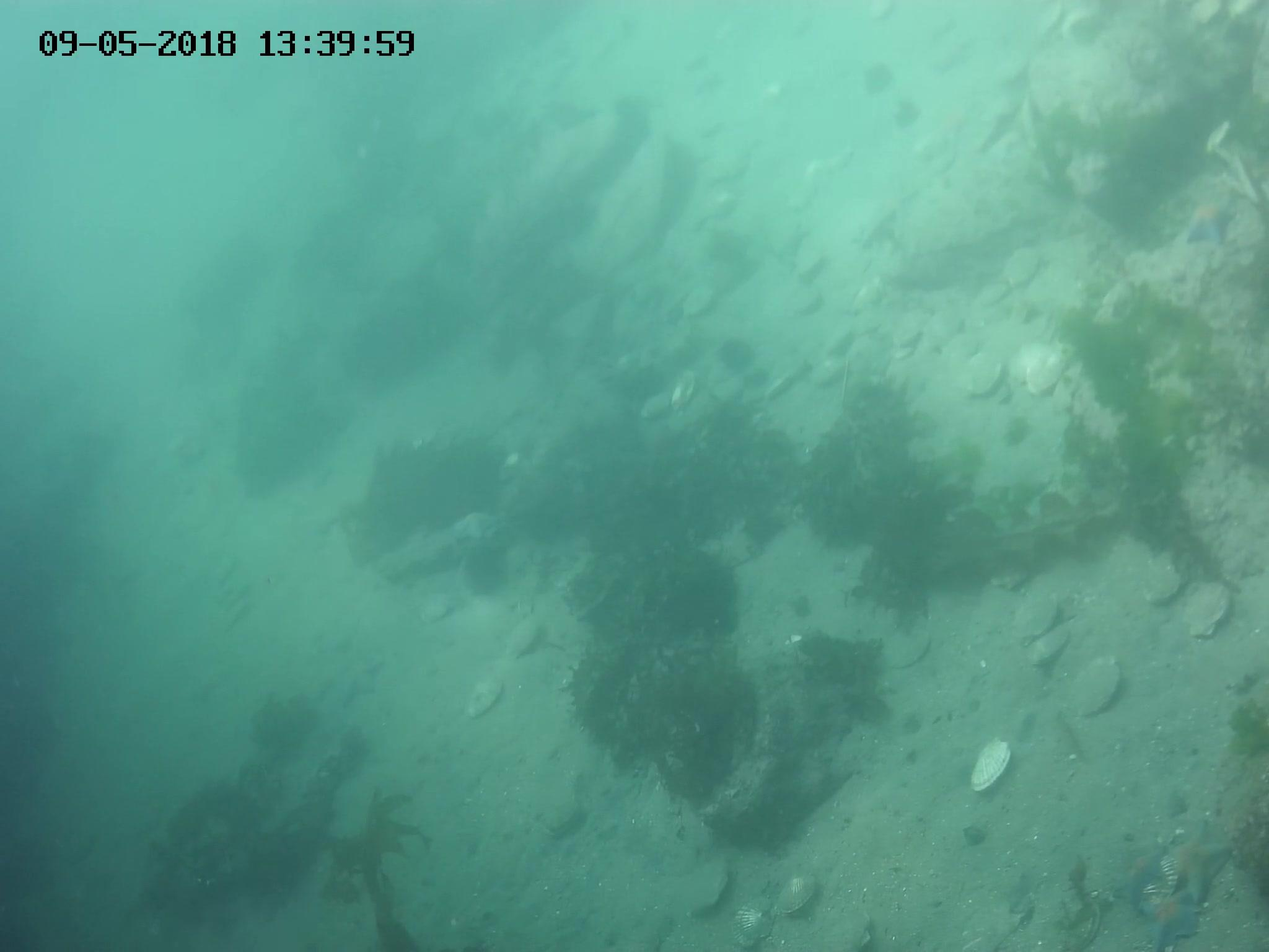holothurian: (1170, 811, 1234, 904), (1139, 888, 1207, 952), (1182, 198, 1237, 252), (334, 655, 389, 708)
scallop: (680, 855, 734, 919), (1071, 658, 1123, 721), (966, 735, 1016, 800), (728, 896, 781, 952), (1187, 581, 1231, 640), (1012, 595, 1065, 643), (880, 629, 936, 672), (1025, 625, 1073, 669), (828, 912, 880, 952), (965, 351, 1007, 400), (1142, 568, 1192, 609), (849, 334, 894, 379), (463, 671, 504, 720), (1022, 355, 1065, 397), (781, 868, 816, 919), (1003, 248, 1043, 289), (501, 620, 540, 659), (926, 312, 964, 352), (892, 311, 930, 346), (639, 389, 680, 420), (672, 369, 700, 414), (783, 288, 824, 318), (807, 358, 848, 387), (821, 323, 854, 356), (682, 287, 718, 317), (794, 252, 824, 280)
